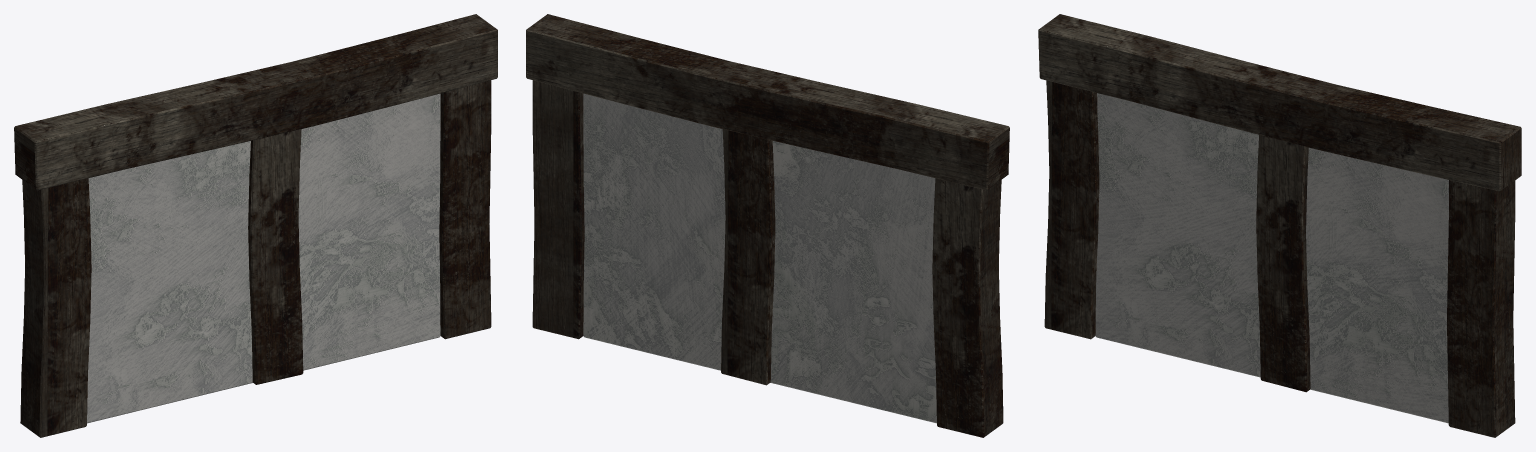
File: TudorWall9.fbx
3 views of the same model, side by side, from view 1: azimuth 30°, elevation 25°; view 2: azimuth 150°, elevation 25°; view 3: azimuth 330°, elevation 25° (orthographic).
Parts seen in each view (by area): view 1: White Wall Straight 3m; view 2: White Wall Straight 3m; view 3: White Wall Straight 3m.
Boxes of the visible parts, bbox=[...] form: White Wall Straight 3m: bbox=[14, 14, 497, 437]; White Wall Straight 3m: bbox=[526, 14, 1009, 437]; White Wall Straight 3m: bbox=[1038, 14, 1521, 437].
Size of the model in its own units: 390 by 240 by 31.79.
